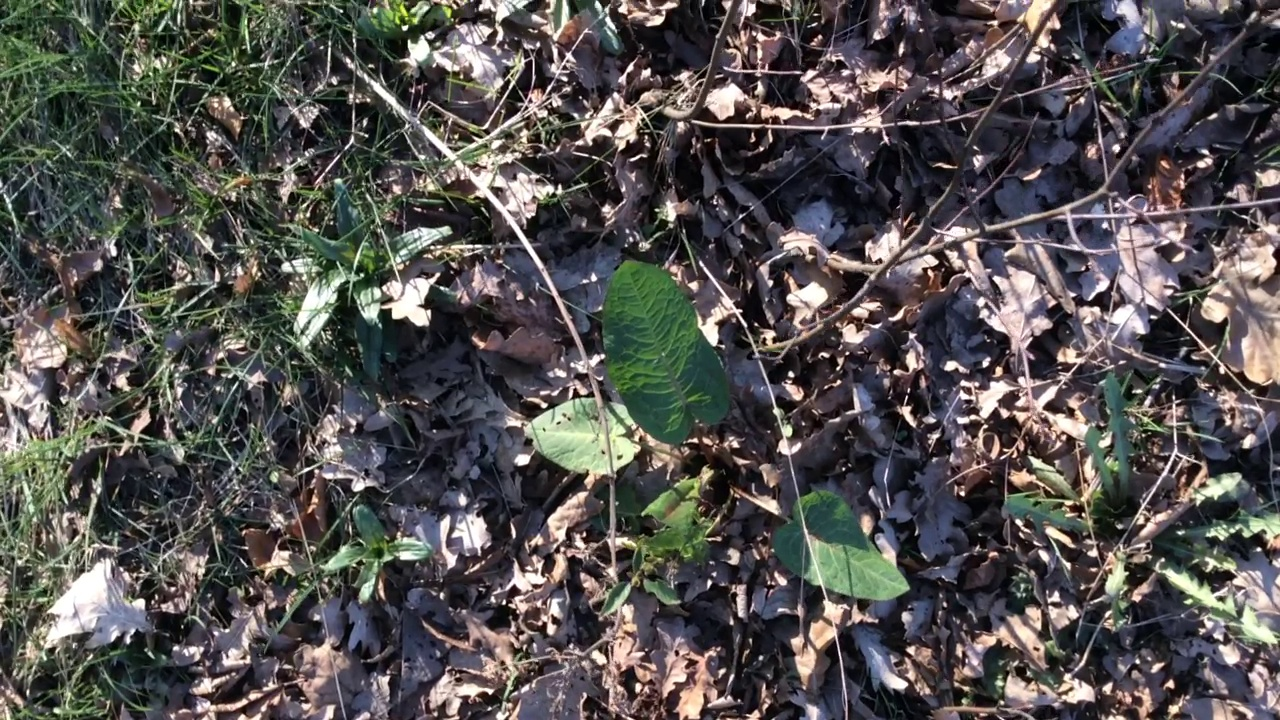rumex: (529, 260, 910, 601)
